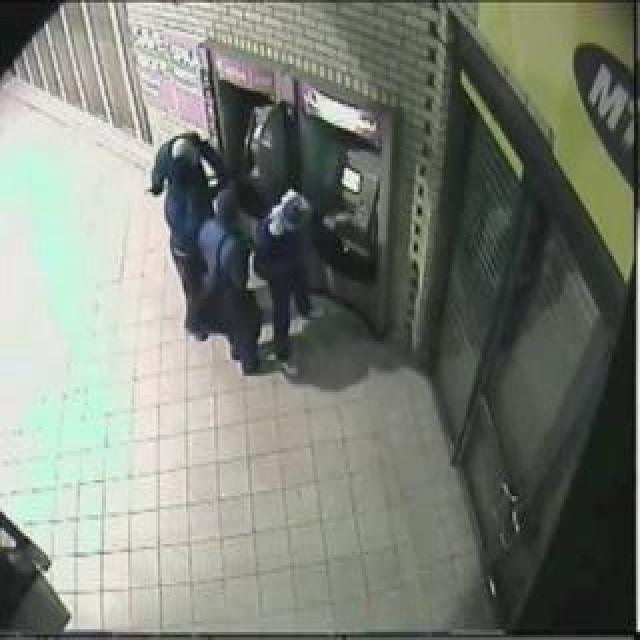thief: (162, 126, 324, 278)
